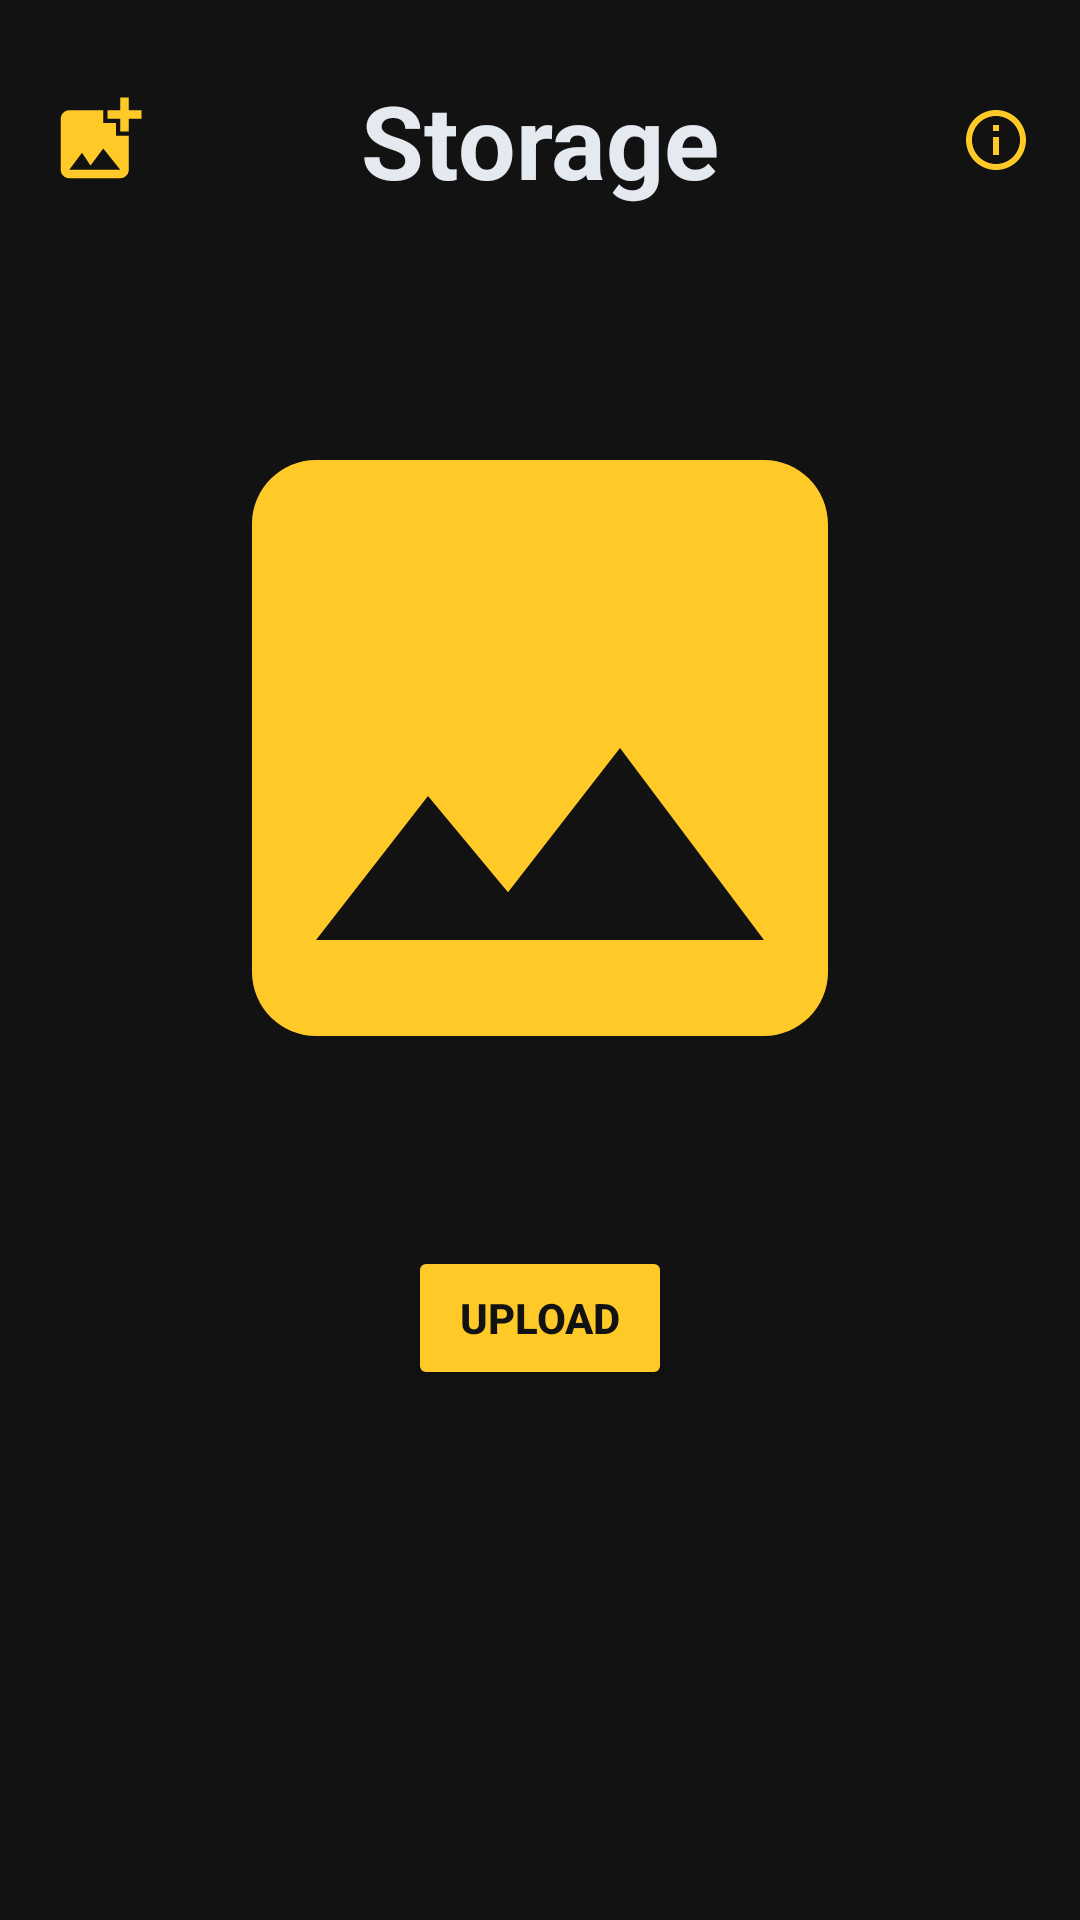

Where to tap for icons on this 1080×1920 app screen, as (x,y):
add photo: (101,138)
info: (996,140)
